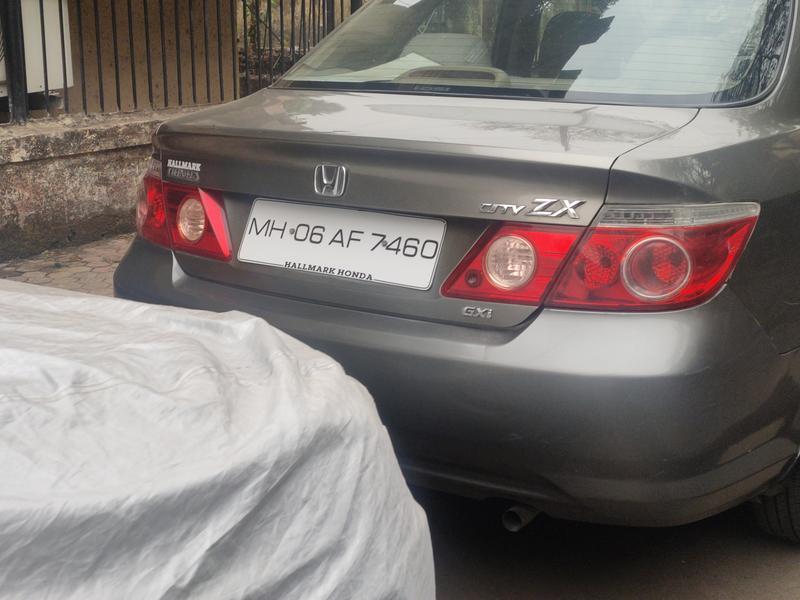license_plate: (229, 183, 452, 305)
